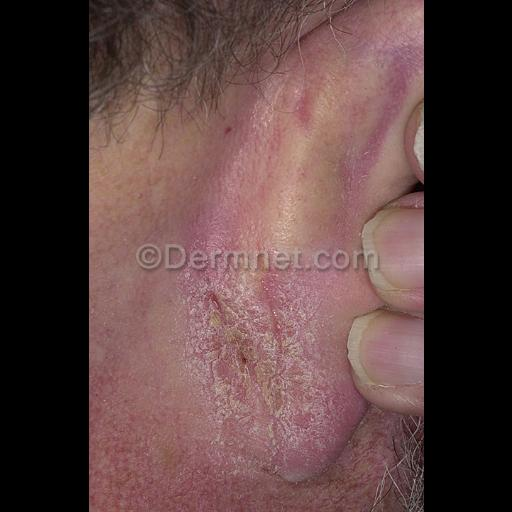Skin_Lesion: (232, 342, 298, 436), (182, 280, 228, 372), (88, 374, 106, 428), (214, 122, 242, 138)
